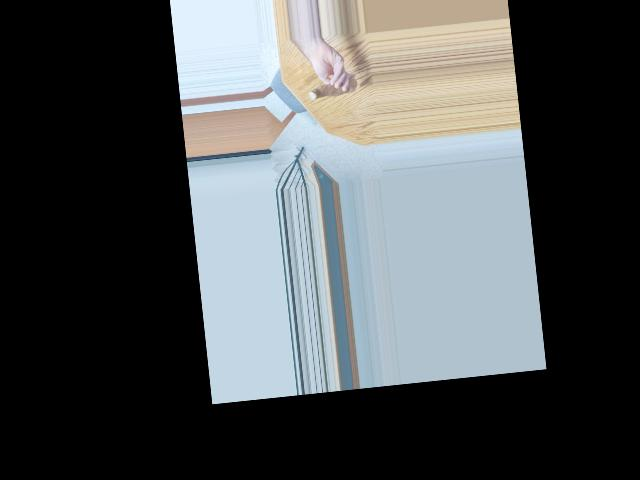sweet_potato: (303, 79, 358, 100)
